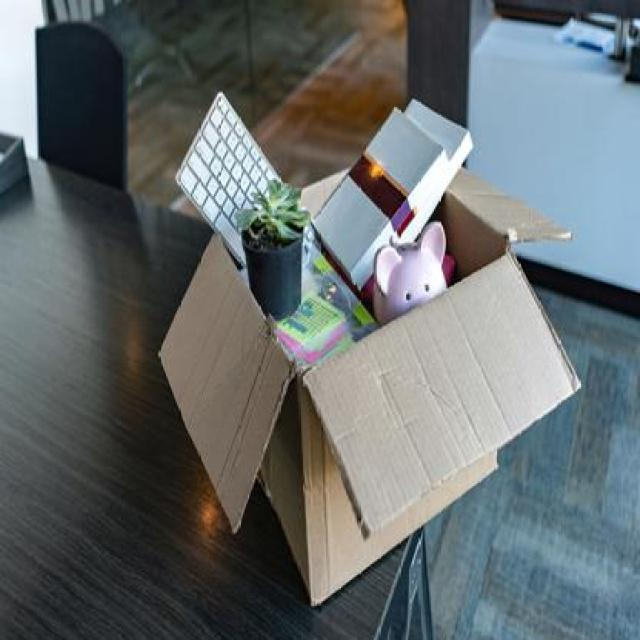box: (154, 75, 586, 628)
